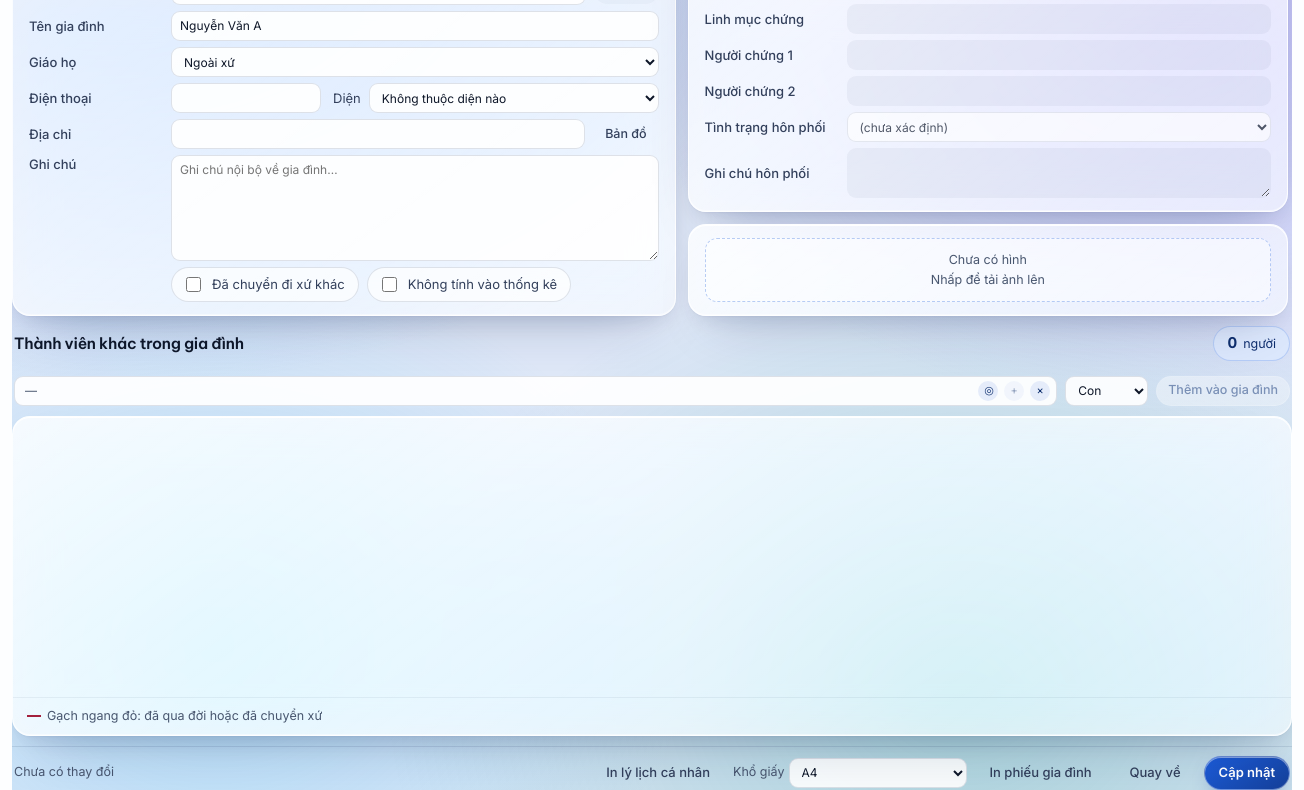
Test: GiaDinhDetailPage › luu thanh cong thi xoa ban nhap gia dinh
(page scrolled)
Click the button "Cập nhật" at (1247, 773), box [1204,756,1290,789]
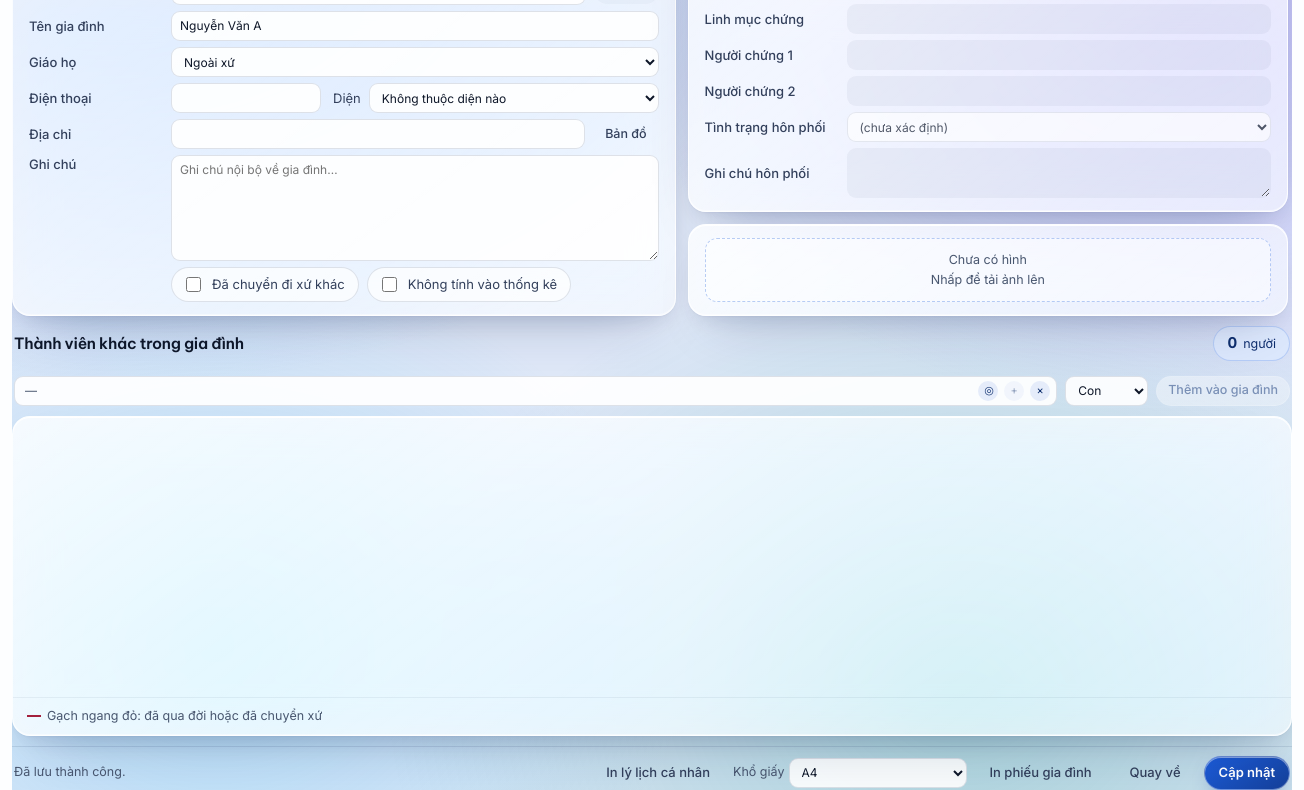
Check: the text "Đã lưu thành công." is shown, box [14,763,126,782]
